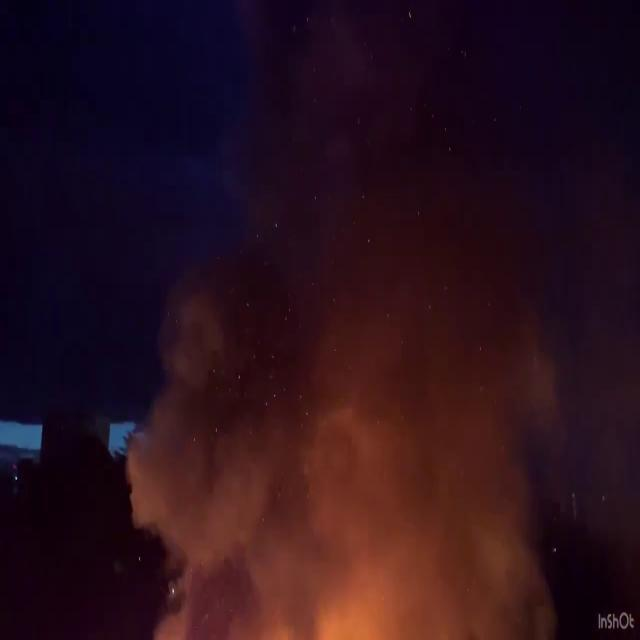Smoke: (121, 8, 564, 638)
